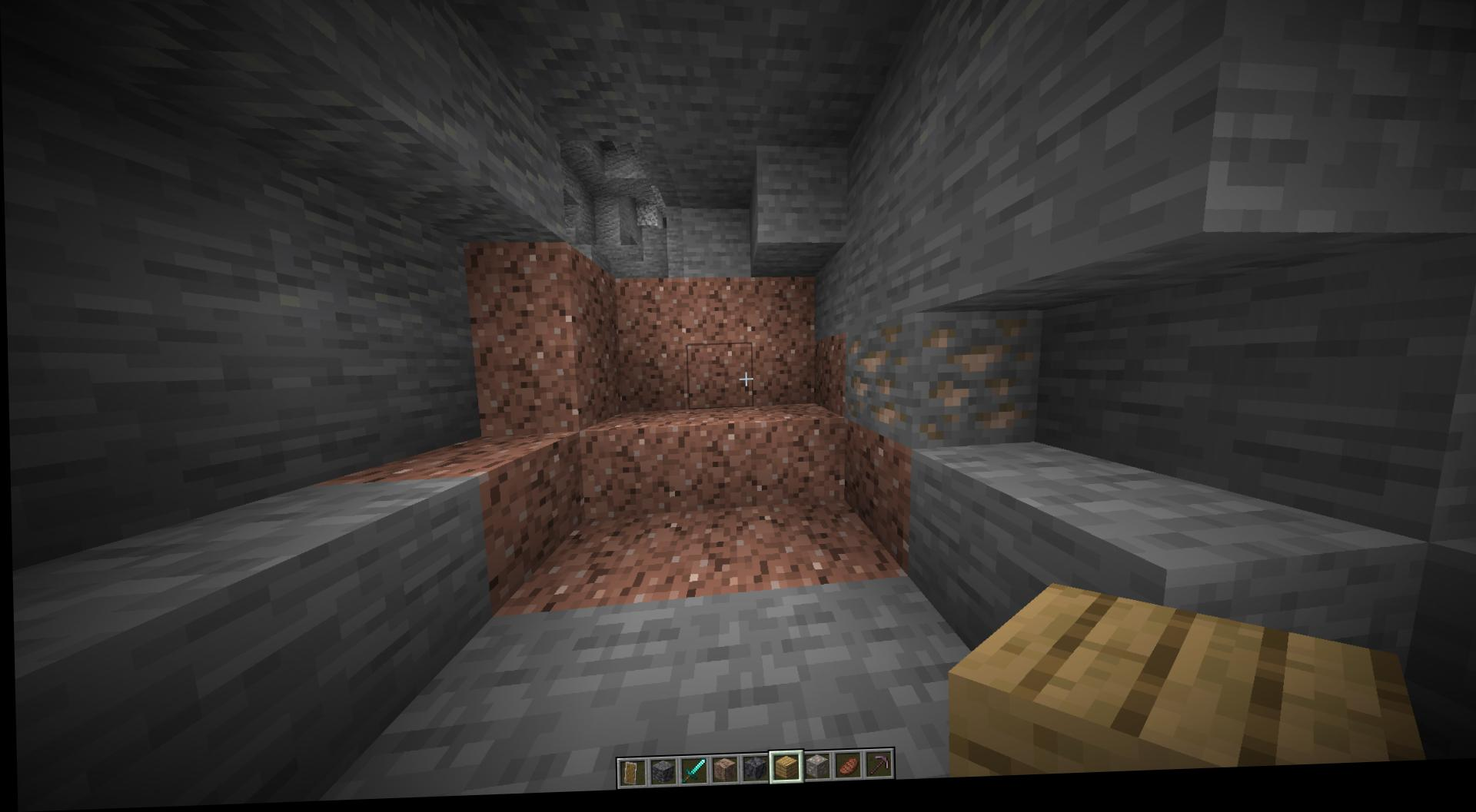iron ore: (918, 319, 1037, 451), (839, 331, 914, 442)
